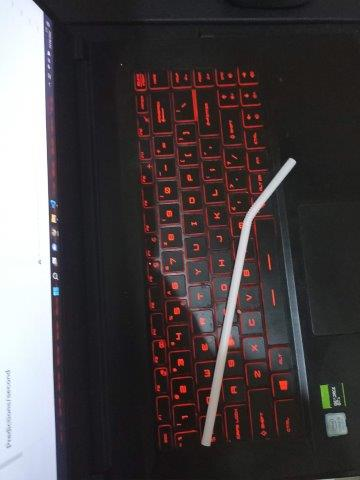sedotan: (201, 157, 296, 446)
